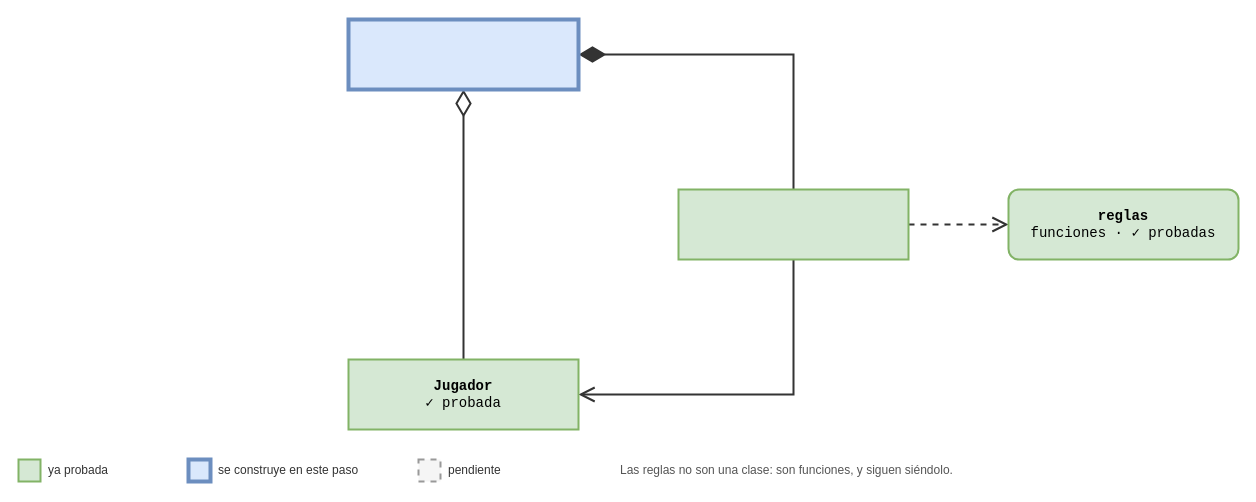
The diagram is 1256 pixels wide and 502 high, and some of its shapes have lost their labels. The box of each missing label's shape, as (x1, y1, x2, y2) in pixels:
Partida lleva el juego: (346, 17, 580, 91)
Ronda ✓ probada: (677, 188, 909, 260)
